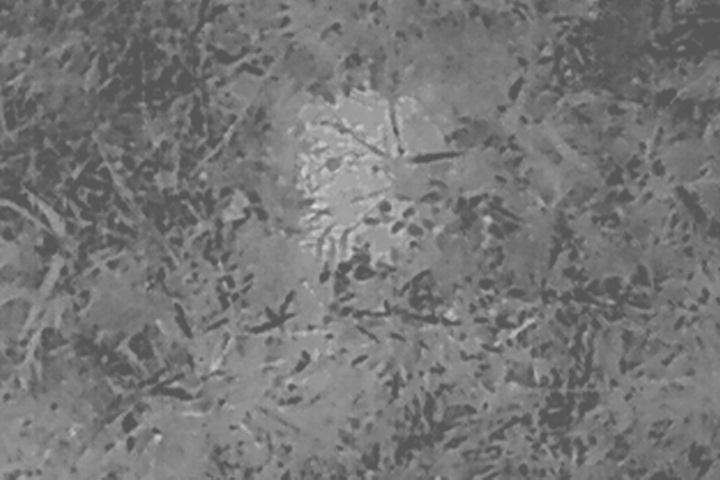landmine: (296, 99, 427, 258)
